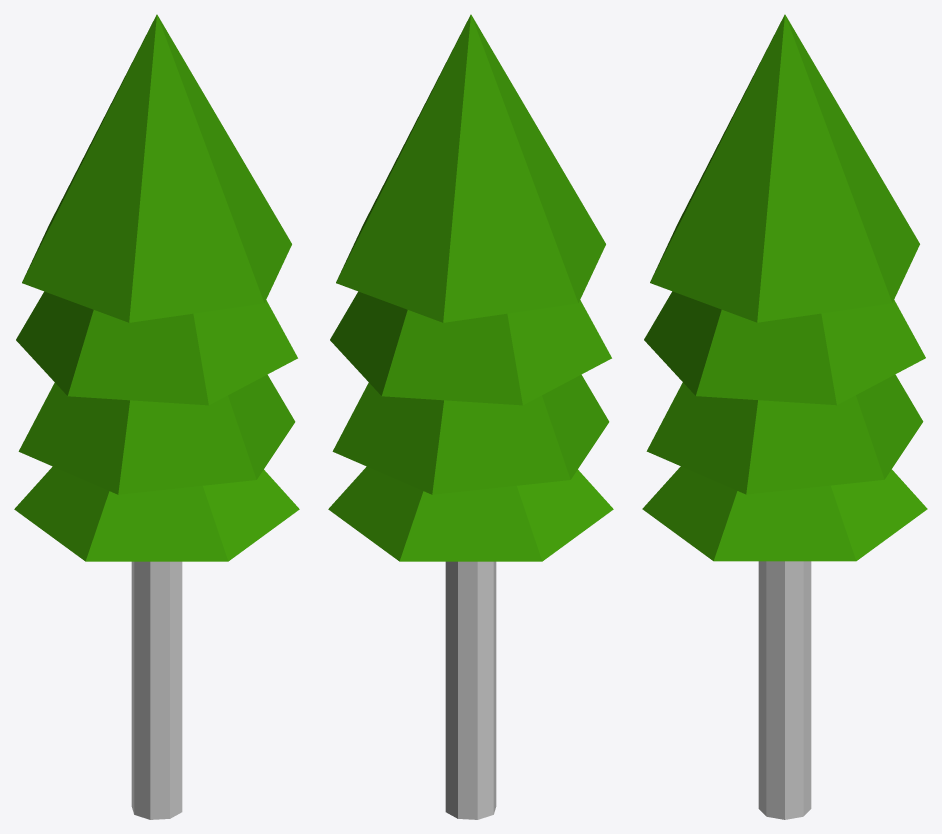
The model's file is tree.fbx.
The picture shows the model from 3 angles, left to right: view 1: azimuth 30°, elevation 25°; view 2: azimuth 150°, elevation 25°; view 3: azimuth 270°, elevation 25°; orthographic projection.
Visible parts, largest first — view 1: Cylinder; view 2: Cylinder; view 3: Cylinder.
Boxes of the visible parts, bbox=[...] form: Cylinder: bbox=[14, 14, 299, 819]; Cylinder: bbox=[328, 14, 613, 819]; Cylinder: bbox=[642, 14, 927, 819].
Size of the model in its own units: 317 by 992 by 323.
